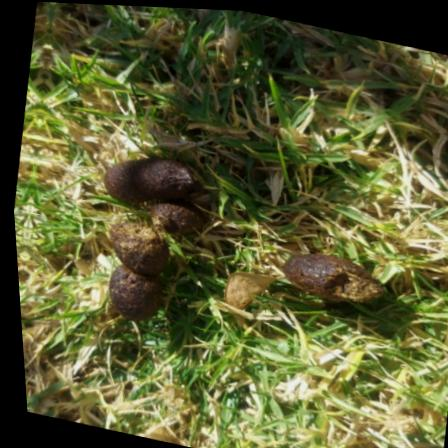dog-poop: (78, 133, 213, 326), (256, 233, 406, 324)
